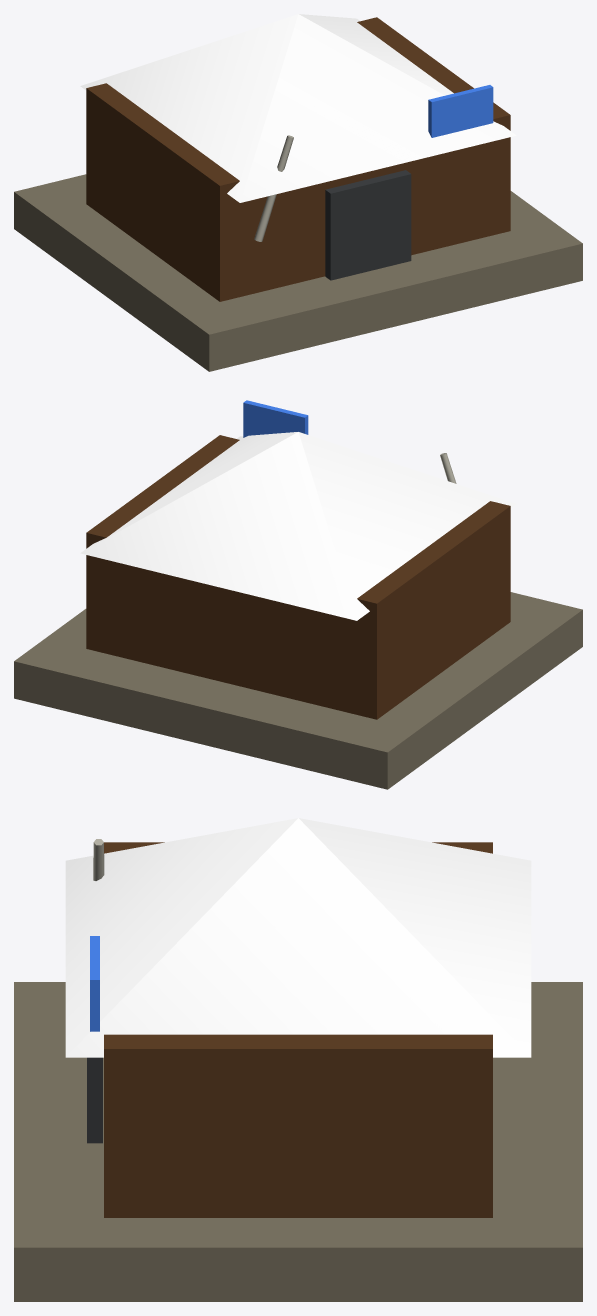
The model's file is barracks.glb.
3 renders of one model, top to bottom at view 1: azimuth 30°, elevation 25°; view 2: azimuth 150°, elevation 25°; view 3: azimuth 270°, elevation 25°, orthographic. The views are drawn at different scales.
Parts seen in each view (by area): view 1: barracks-timber-body, barracks-heavy-roof, barracks-stone-footprint, barracks-front-gate, barracks-team-banner, barracks-sword-sign-blade; view 2: barracks-timber-body, barracks-heavy-roof, barracks-stone-footprint, barracks-team-banner; view 3: barracks-heavy-roof, barracks-stone-footprint, barracks-timber-body, barracks-front-gate, barracks-team-banner.
Boxes of the visible parts, x1,y1,x2,y2 form: barracks-timber-body: (86,17,510,301); barracks-heavy-roof: (80,14,516,202); barracks-stone-footprint: (14,174,582,371); barracks-front-gate: (325,170,411,280); barracks-team-banner: (428,85,493,137); barracks-sword-sign-blade: (254,135,293,241); barracks-timber-body: (86,435,510,719); barracks-heavy-roof: (80,432,516,620); barracks-stone-footprint: (14,592,582,789); barracks-team-banner: (243,400,308,437); barracks-heavy-roof: (65,818,531,1057); barracks-stone-footprint: (14,982,582,1301); barracks-timber-body: (104,842,492,1217); barracks-front-gate: (87,1057,102,1143); barracks-team-banner: (90,936,99,1031).
Bounding box in the file's own units: 3.15 × 1.94 × 2.85.
